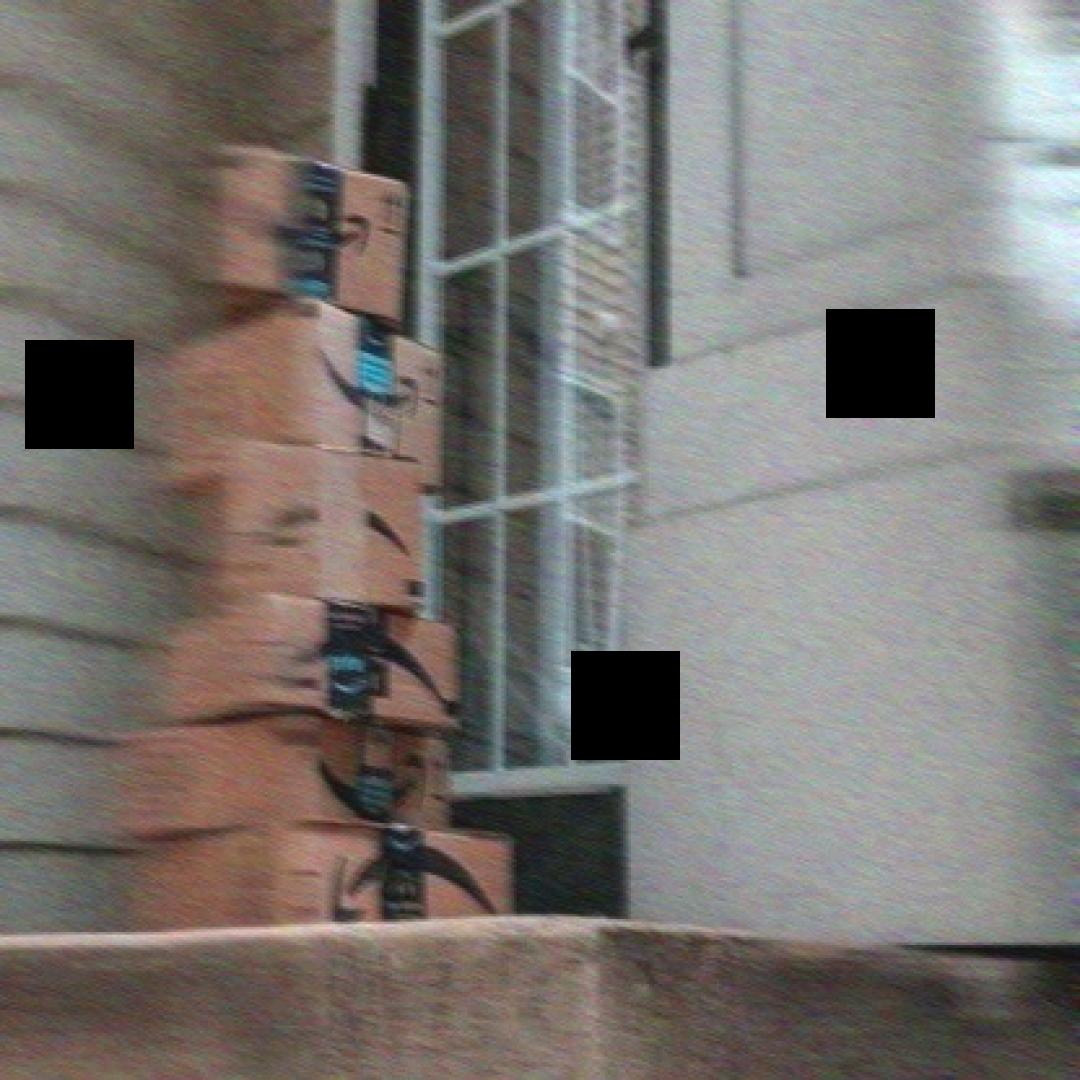package: (161, 314, 449, 491), (140, 828, 530, 948), (150, 590, 470, 730), (197, 446, 428, 628), (114, 719, 462, 833), (213, 138, 405, 327)
